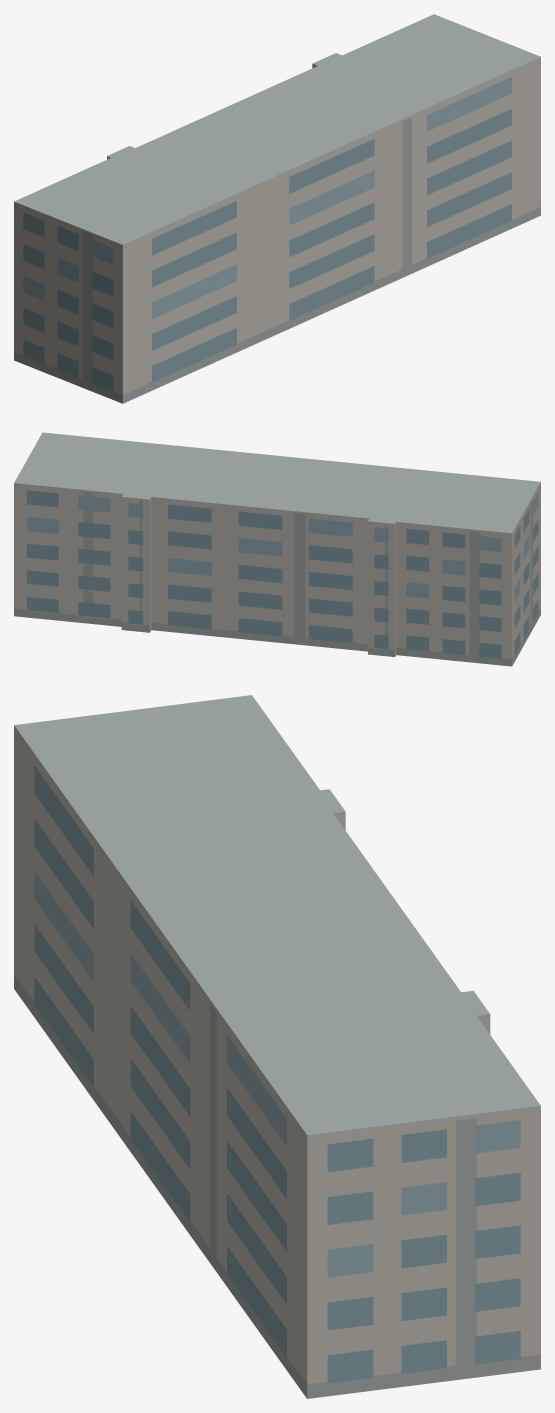
File: survey-upis-32841697.glb
The picture shows the model from 3 angles, top to bottom: view 1: azimuth 30°, elevation 25°; view 2: azimuth 150°, elevation 25°; view 3: azimuth 270°, elevation 25°; orthographic projection. The views are drawn at different scales.
Visible parts, largest first — view 1: survey-upis-32841697.tmp; view 2: survey-upis-32841697.tmp; view 3: survey-upis-32841697.tmp.
Boxes of the visible parts, <box> form: survey-upis-32841697.tmp: <box>14,14,540,403</box>; survey-upis-32841697.tmp: <box>14,432,540,666</box>; survey-upis-32841697.tmp: <box>14,695,540,1398</box>.
Bounding box in the file's own units: 54.61 × 15.25 × 27.62.
